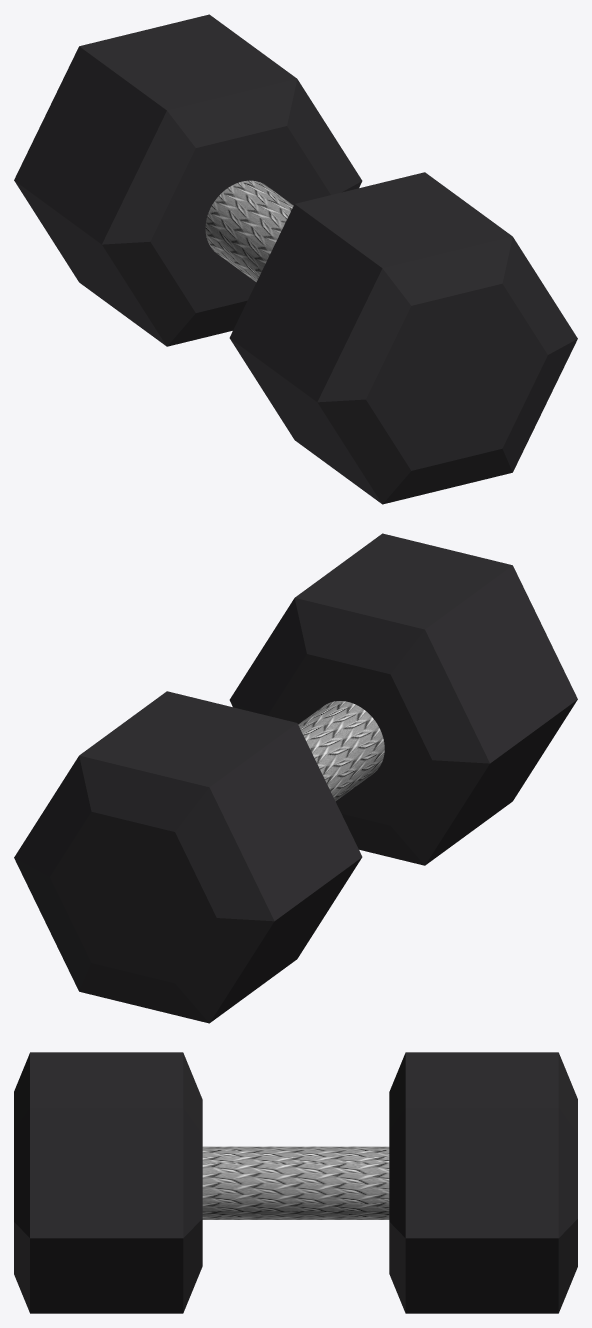
The picture shows the model from 3 angles, top to bottom: view 1: azimuth 30°, elevation 25°; view 2: azimuth 150°, elevation 25°; view 3: azimuth 270°, elevation 25°; orthographic projection. The views are drawn at different scales.
Parts seen in each view (by area): view 1: Cylinder, Cylinder.003, Cylinder.001; view 2: Cylinder.003, Cylinder, Cylinder.001; view 3: Cylinder.003, Cylinder, Cylinder.001.
Part boxes in pixels (x1,y1,x2,y2): Cylinder: (229,172,577,504); Cylinder.003: (14,14,362,346); Cylinder.001: (205,180,293,282); Cylinder.003: (14,691,362,1023); Cylinder: (229,533,577,865); Cylinder.001: (298,701,384,801); Cylinder.003: (389,1052,577,1313); Cylinder: (14,1052,202,1313); Cylinder.001: (202,1146,389,1219).
Size of the model in its own units: 2 by 1.73 by 4.3.
2 materials, 1 textured.
